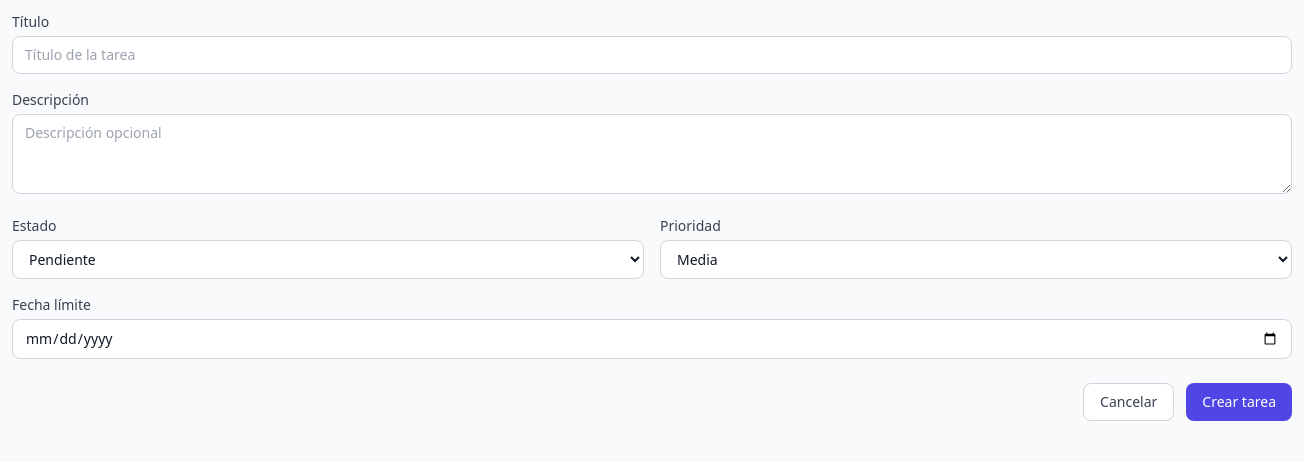
TaskForm › valida fecha límite vacía
The image size is (1304, 462).
In the field with placeholder "Título de la tarea": point(652, 55) x1=12 y1=36 x2=1292 y2=74, type "Tarea sin fecha"
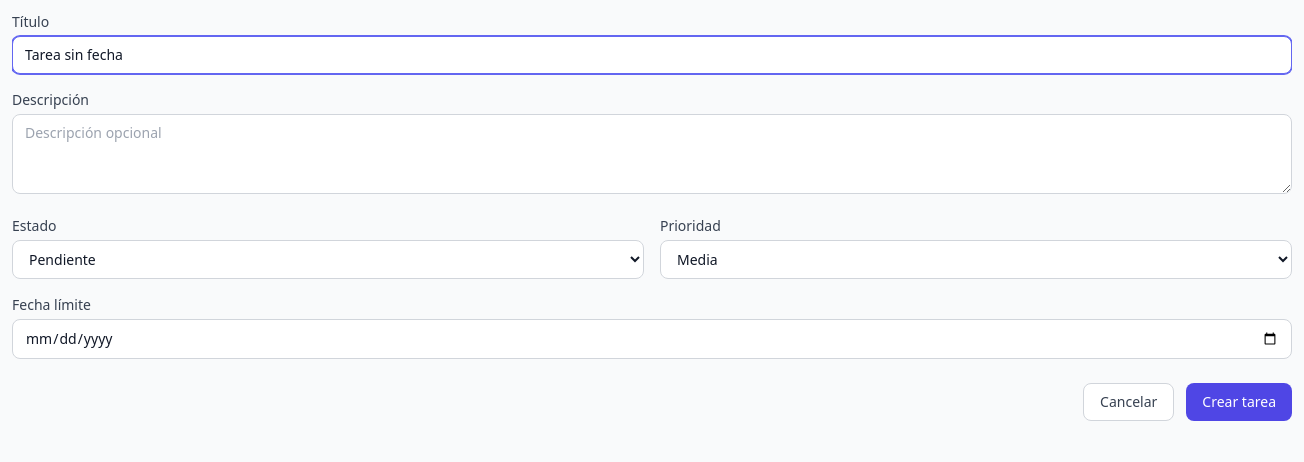
Click the button "Crear tarea": point(1239, 402) x1=1186 y1=383 x2=1292 y2=421
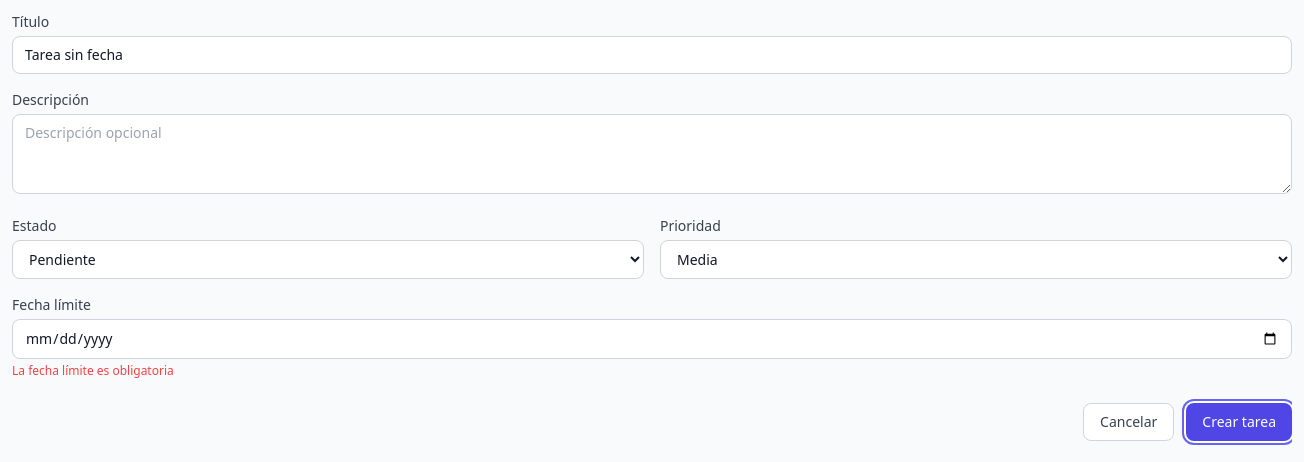
Expected: the text "La fecha límite es obligatoria" is shown, x1=12 y1=362 x2=174 y2=379
